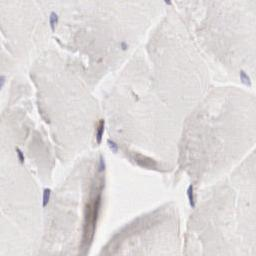nucleus: (40, 187, 52, 208), (49, 11, 59, 32), (186, 185, 195, 208), (239, 70, 251, 87), (15, 148, 25, 163), (97, 155, 106, 171), (108, 140, 117, 153), (120, 40, 129, 50), (1, 75, 6, 91), (98, 129, 102, 141), (165, 1, 173, 7)
positive_cell: (95, 120, 105, 142)
